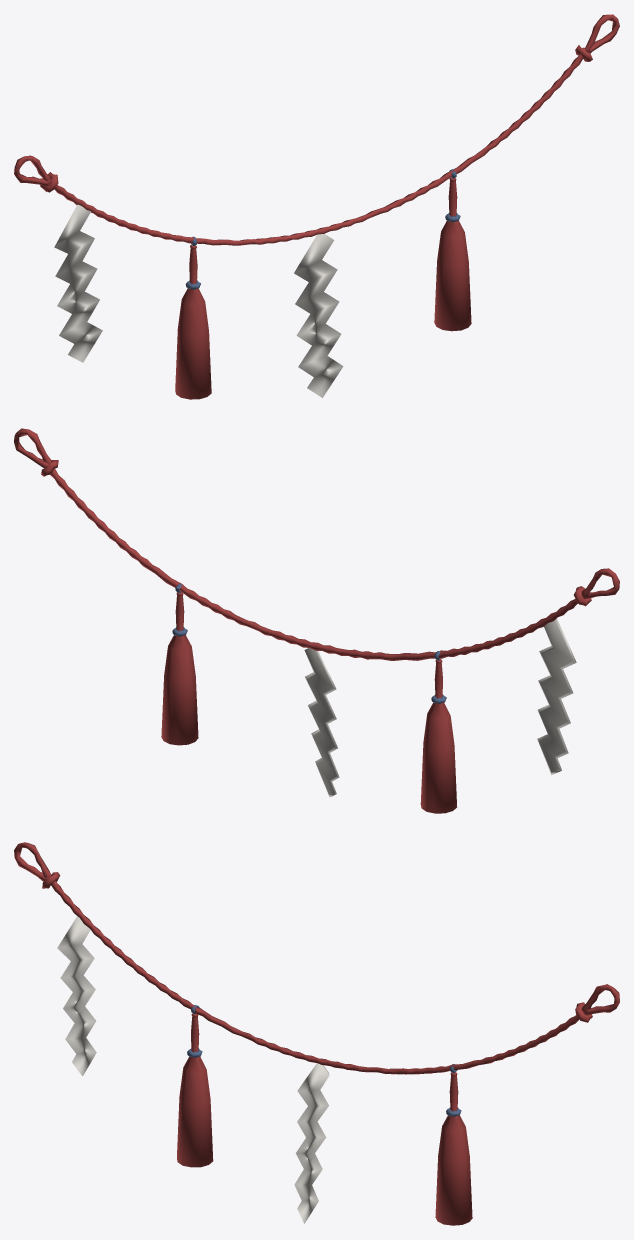
Rendered from SM_ENV_LKNVLD_StrawRope_F.FBX.
The picture shows the model from 3 angles, top to bottom: view 1: azimuth 30°, elevation 25°; view 2: azimuth 150°, elevation 25°; view 3: azimuth 330°, elevation 25°; orthographic projection.
Parts seen in each view (by area): view 1: SM_ENV_LKNVLD_StrawRope_F; view 2: SM_ENV_LKNVLD_StrawRope_F; view 3: SM_ENV_LKNVLD_StrawRope_F.
Boxes of the visible parts, <box> form: SM_ENV_LKNVLD_StrawRope_F: <box>14,14,619,399</box>; SM_ENV_LKNVLD_StrawRope_F: <box>14,428,619,813</box>; SM_ENV_LKNVLD_StrawRope_F: <box>14,842,619,1225</box>.
Bounding box in the file's own units: 920 × 444 × 58.45.
